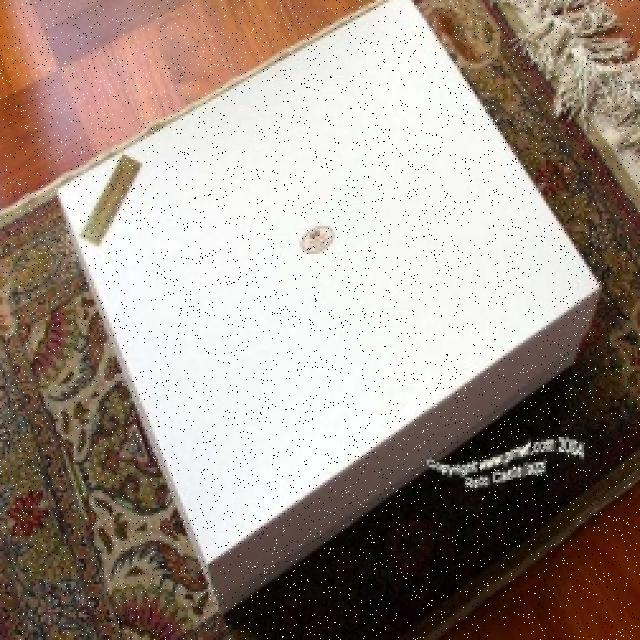box: (43, 0, 617, 620)
